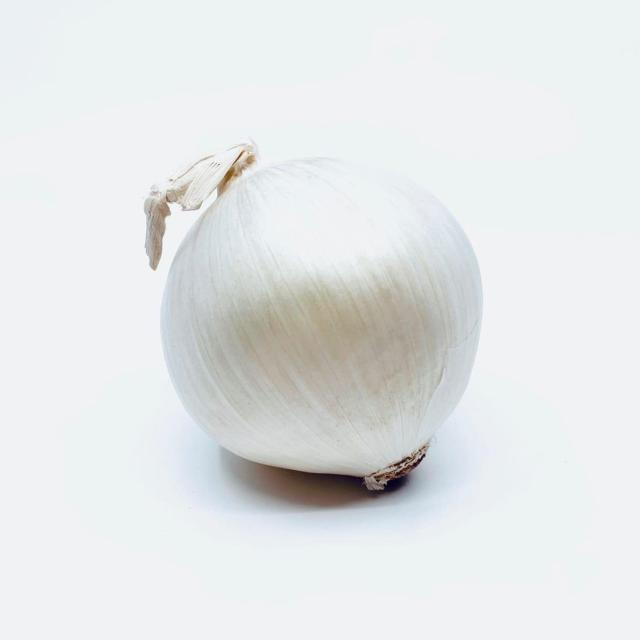Onion: (147, 143, 485, 495)
